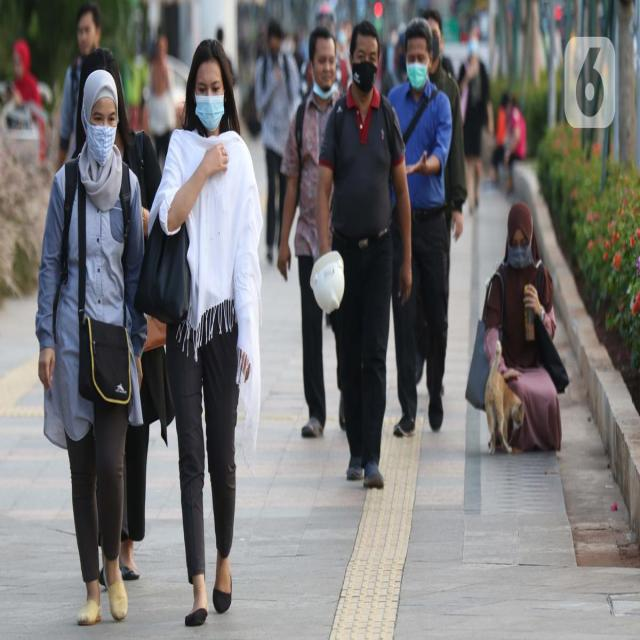pejalan-kaki: (159, 49, 289, 632), (426, 14, 572, 477), (42, 47, 150, 640), (341, 10, 407, 526), (294, 22, 340, 346), (62, 0, 118, 188)
